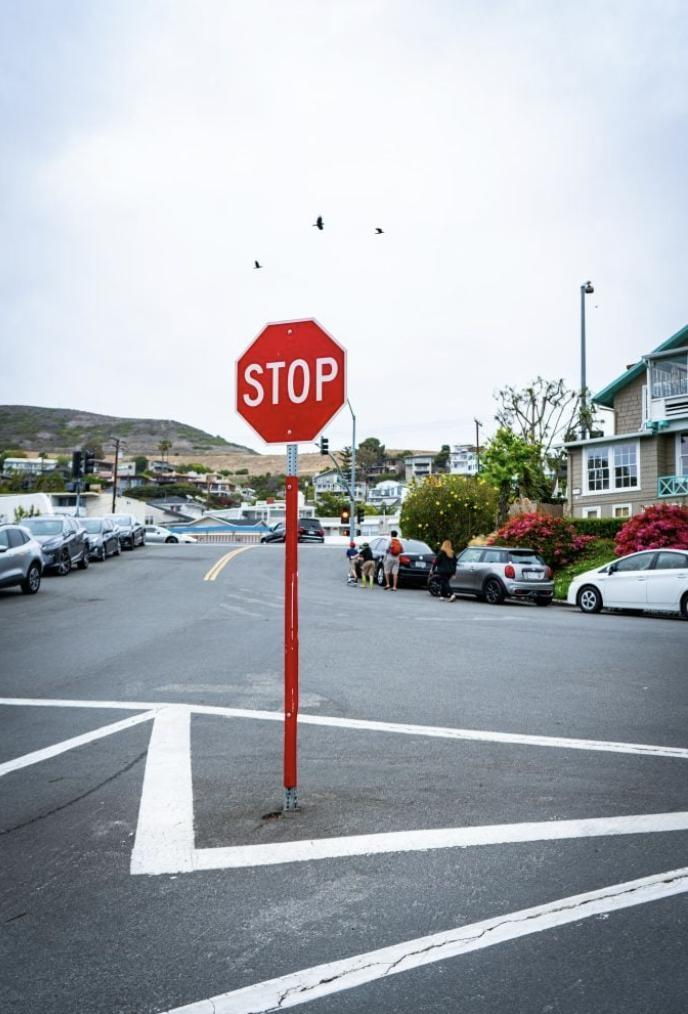Stop-Sign: (236, 318, 346, 443)
